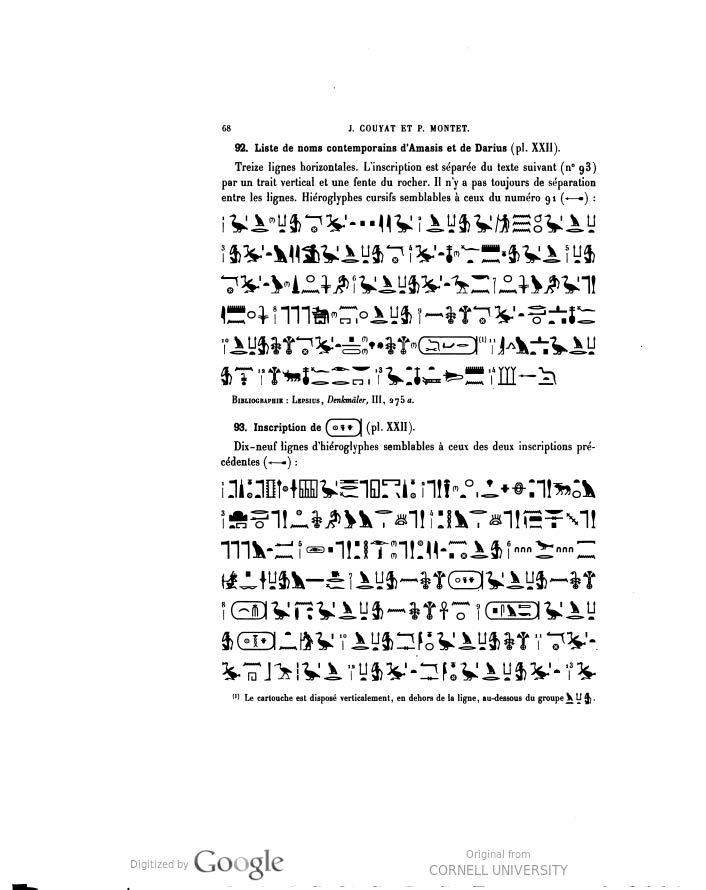circle: (411, 328, 495, 365), (228, 621, 289, 659), (435, 560, 493, 595), (483, 596, 541, 624), (218, 595, 276, 622), (325, 412, 374, 443)
